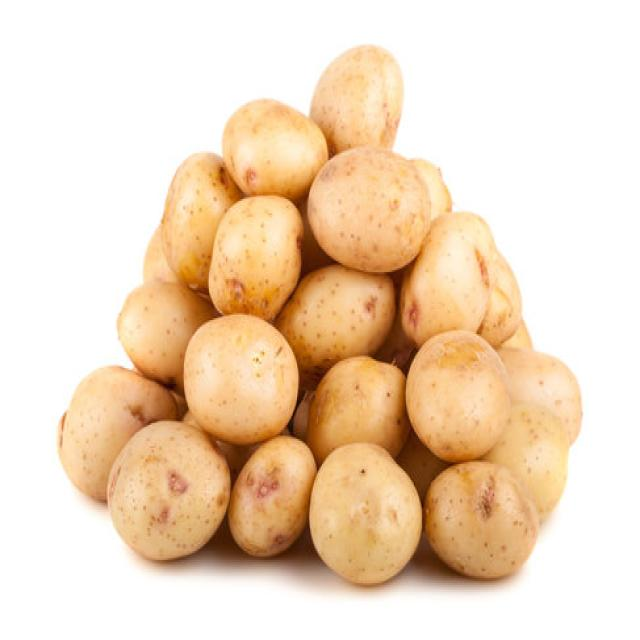Potato: (105, 418, 230, 560), (307, 441, 422, 585), (314, 158, 420, 274), (57, 362, 143, 498), (208, 193, 301, 317), (183, 322, 285, 427), (438, 461, 528, 579), (309, 42, 403, 154), (412, 334, 501, 452), (412, 222, 487, 341), (240, 450, 318, 559), (222, 99, 310, 193), (295, 271, 386, 361), (511, 348, 582, 461), (115, 278, 189, 371), (164, 154, 220, 276)
